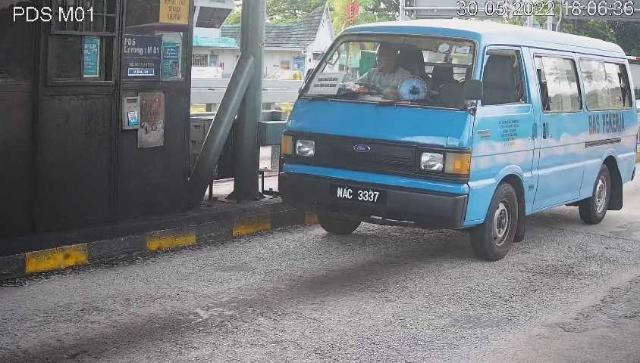License_Plate: (333, 185, 387, 207)
van: (279, 21, 640, 262)
